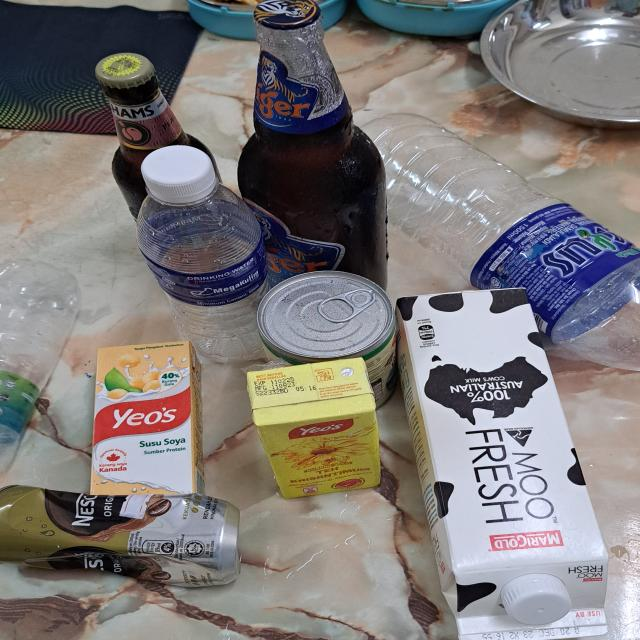can: (0, 480, 241, 586), (261, 275, 395, 405), (314, 284, 372, 322)
drink carton: (386, 279, 614, 635), (252, 366, 386, 496), (91, 342, 199, 500)
glass bottle: (233, 0, 393, 296), (95, 56, 217, 236)
plastic bottle: (361, 110, 638, 379), (136, 186, 268, 363), (0, 255, 77, 494)
plastic bottle cap: (141, 147, 217, 199), (499, 574, 565, 625)
